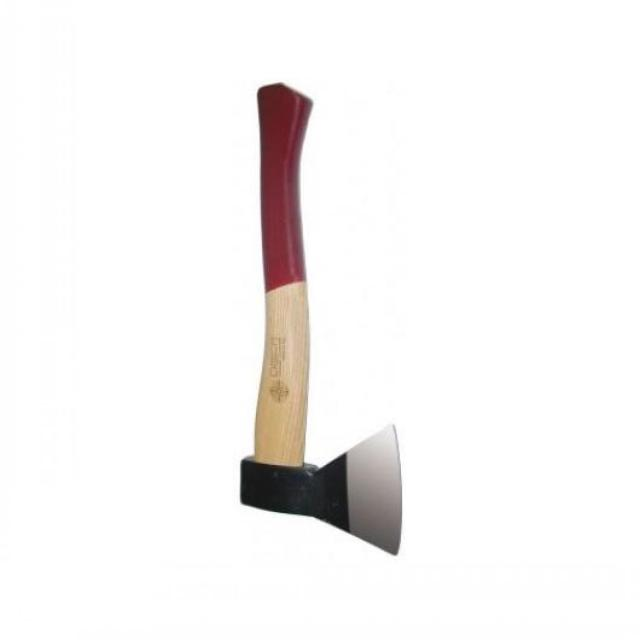Kapak: (217, 56, 432, 602)
